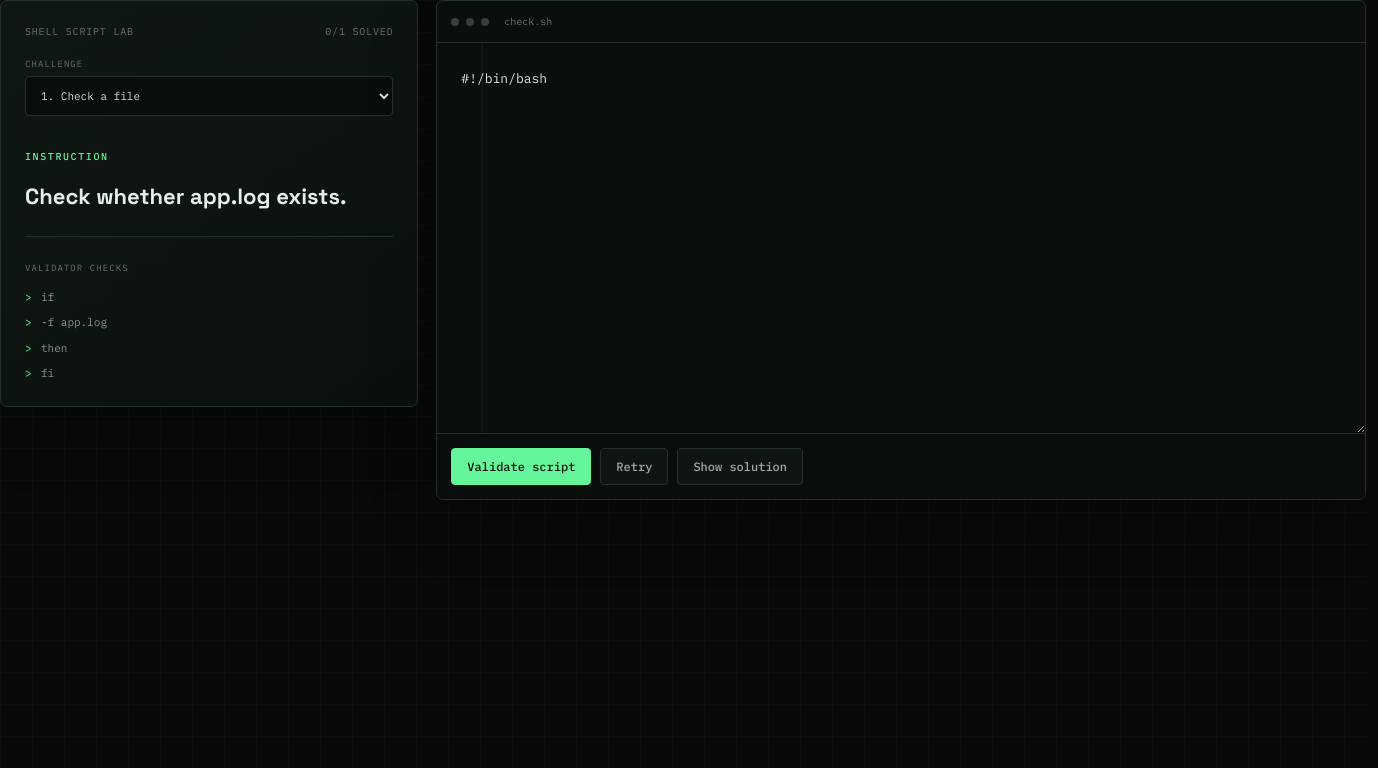
Test: FilePractice › can show the solution and reset the editor
Replace the text in the text box named "Shell script answer" with "temporary answer". click: (901, 238)
box: [437, 43, 1365, 433]
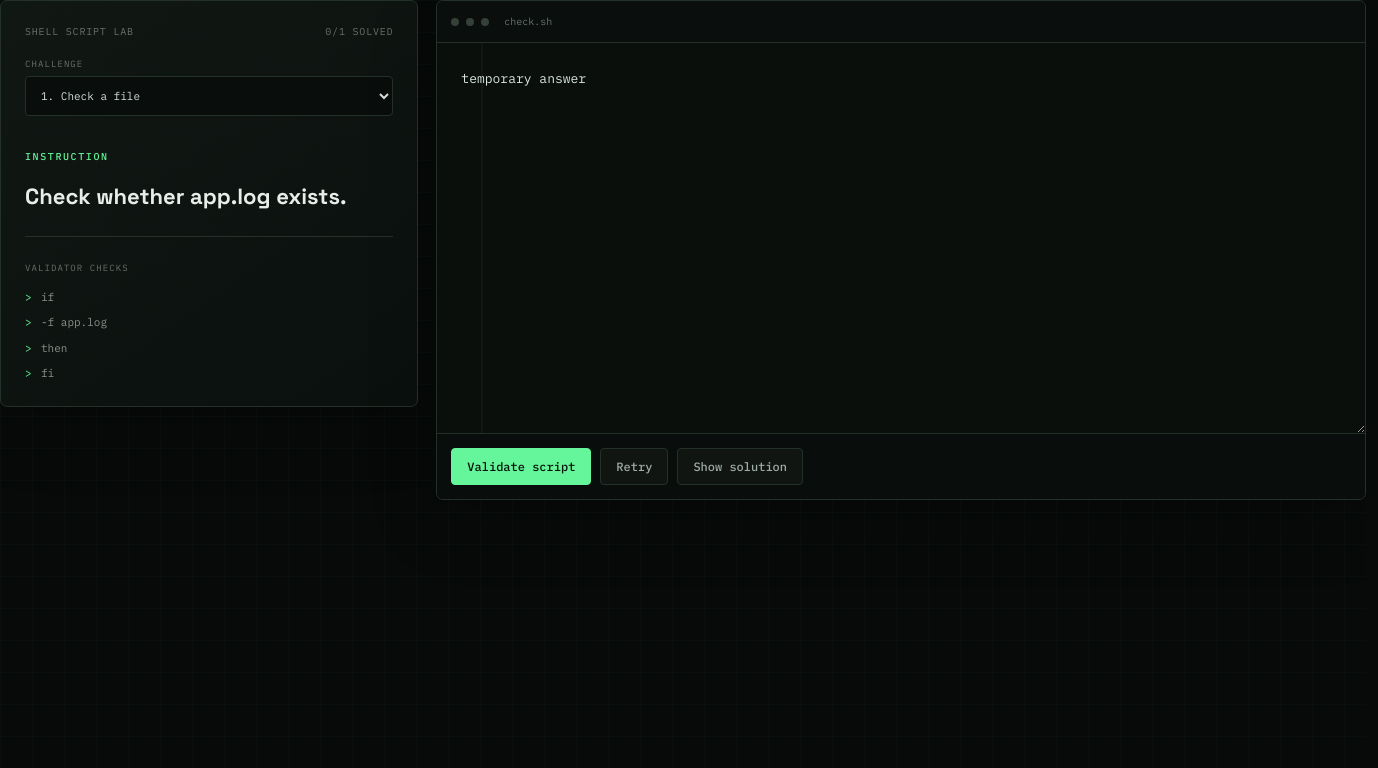
Click the button "Show solution". click: (740, 466)
box: [677, 448, 803, 485]
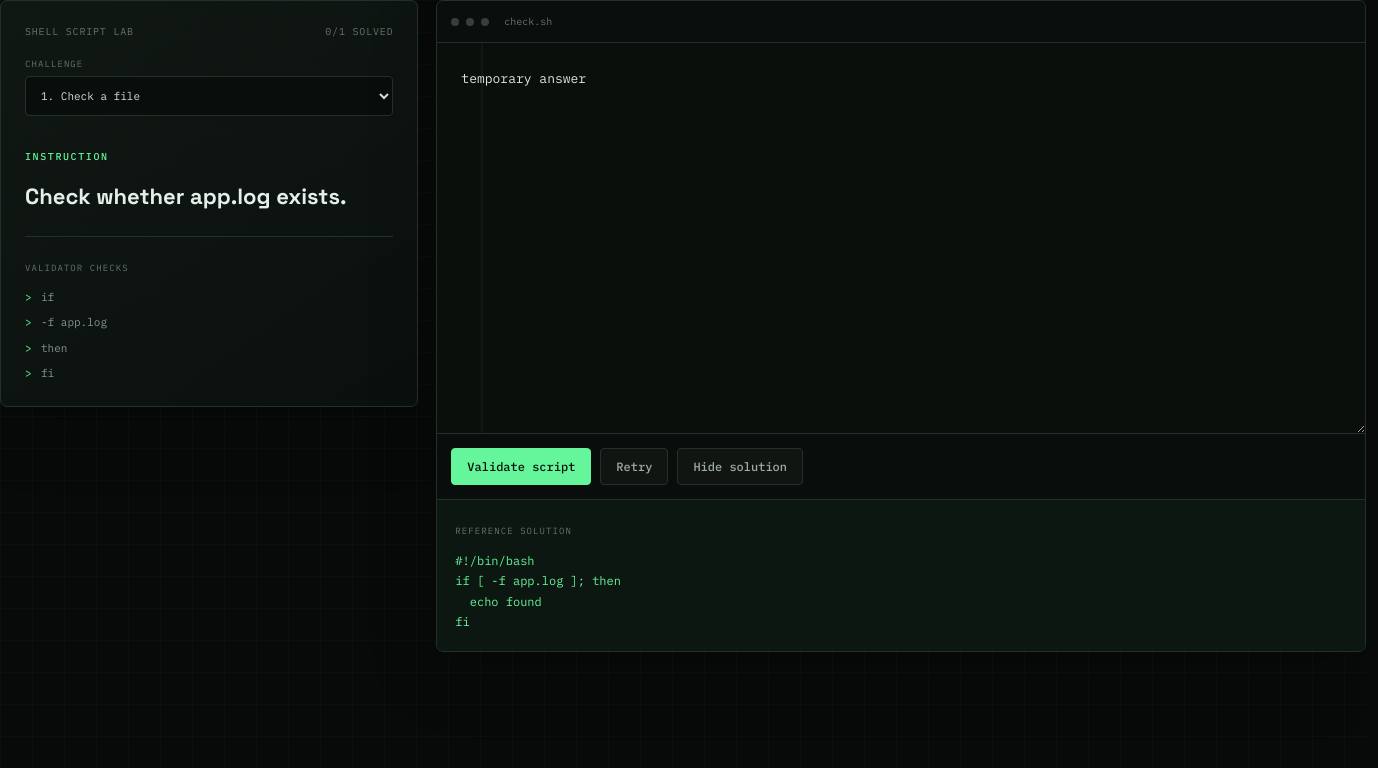
Expected: the text "reference solution" is shown, [455, 525, 572, 536]
Click the button "Retry". click: (634, 466)
box: [600, 448, 668, 485]
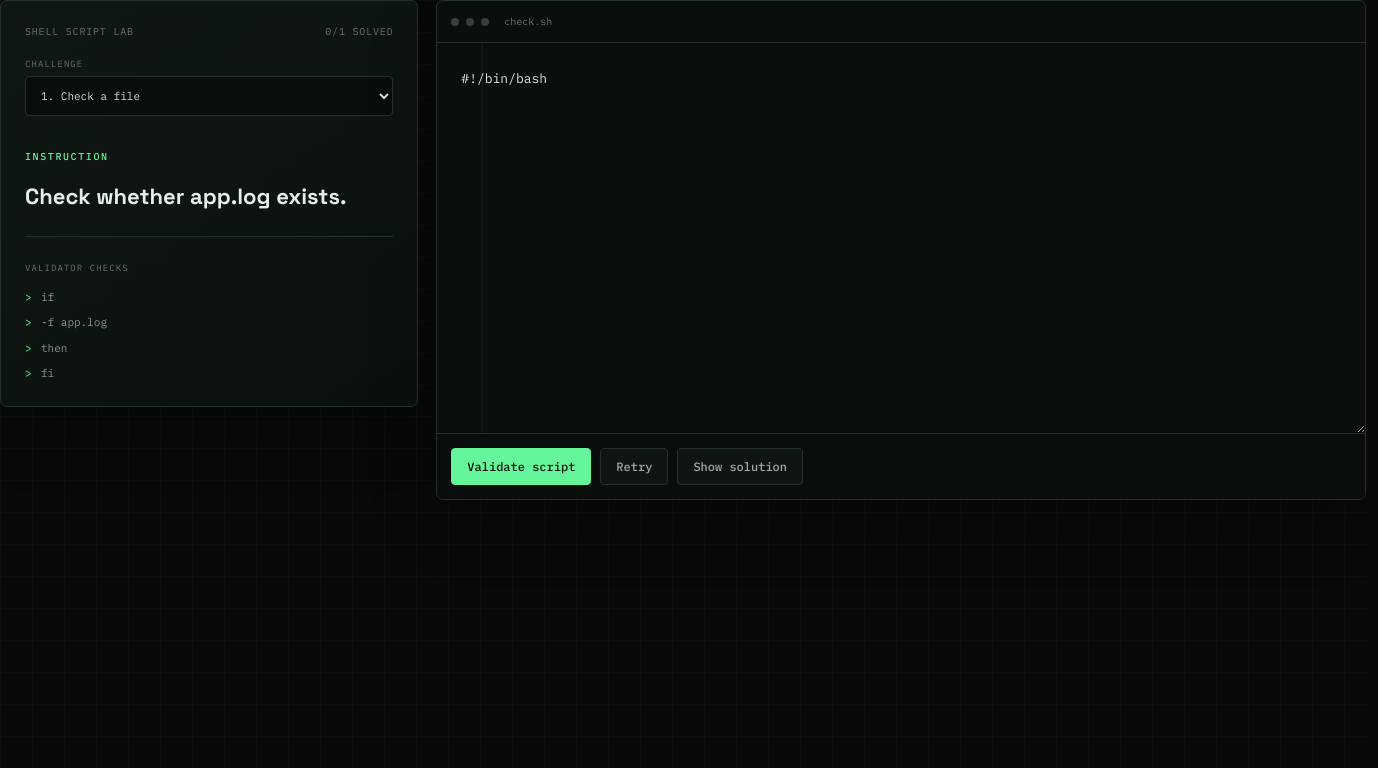
Expected: the text "reference solution" is gone
